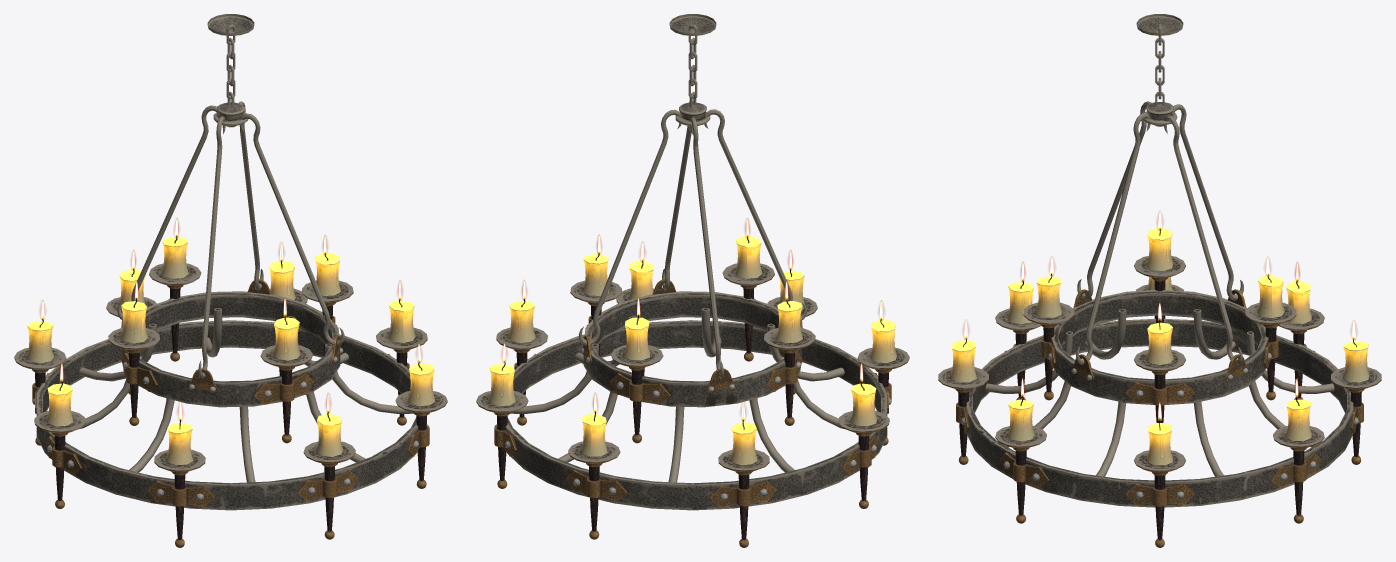
File: medieval_chandelier.glb
3 renders of one model, left to right at view 1: azimuth 30°, elevation 25°; view 2: azimuth 150°, elevation 25°; view 3: azimuth 270°, elevation 25°, orthographic.
Visible parts, largest first — view 1: group42; view 2: group42; view 3: group42.
Part boxes in pixels (left/top/right/bottom): group42: left=14, top=14, right=447, bottom=547; group42: left=476, top=14, right=909, bottom=547; group42: left=938, top=14, right=1381, bottom=547.
Bounding box in the file's own units: 38.71 × 42.47 × 38.71.
Materials: 2 (2 with a texture image).
